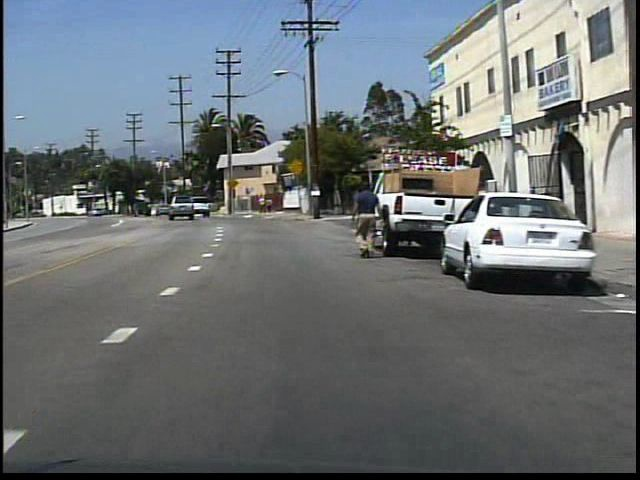person: (347, 182, 388, 261), (256, 194, 266, 216), (265, 196, 276, 215)
